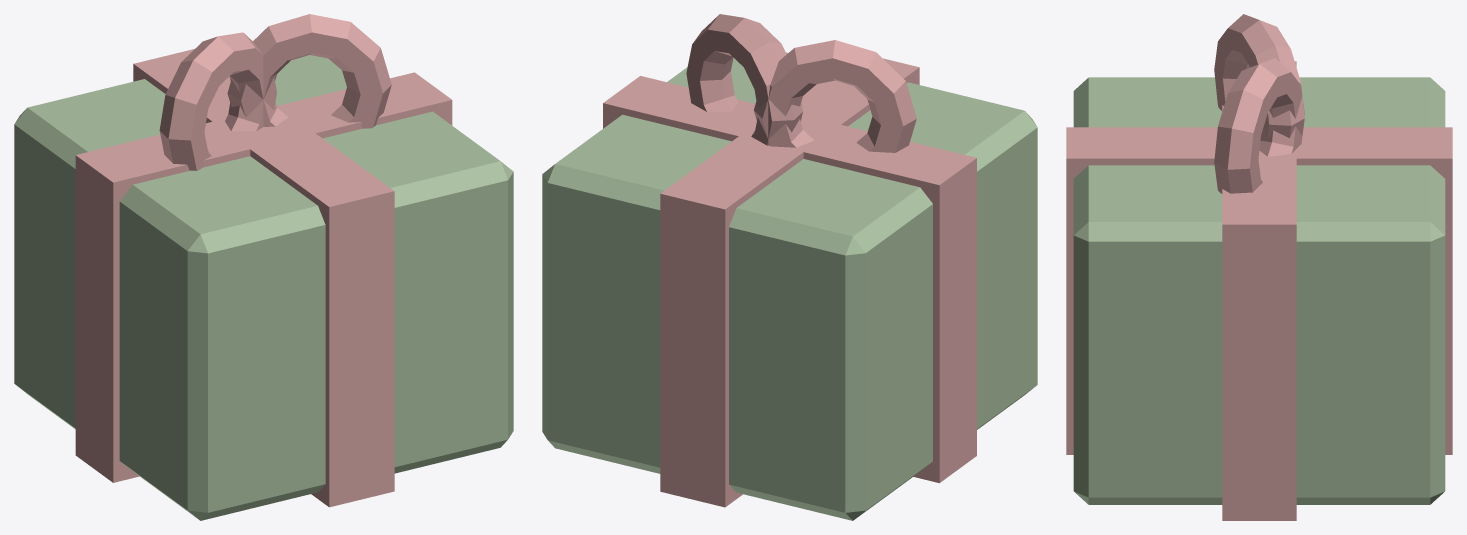
File: sb_present_sage.glb
The picture shows the model from 3 angles, left to right: view 1: azimuth 30°, elevation 25°; view 2: azimuth 150°, elevation 25°; view 3: azimuth 270°, elevation 25°; orthographic projection.
Parts seen in each view (by area): view 1: present_sage; view 2: present_sage; view 3: present_sage.
Part boxes in pixels (bbox=[...]): present_sage: bbox=[14, 14, 513, 520]; present_sage: bbox=[542, 14, 1037, 520]; present_sage: bbox=[1066, 14, 1452, 520].
Size of the model in its own units: 0.52 by 0.59 by 0.52.
